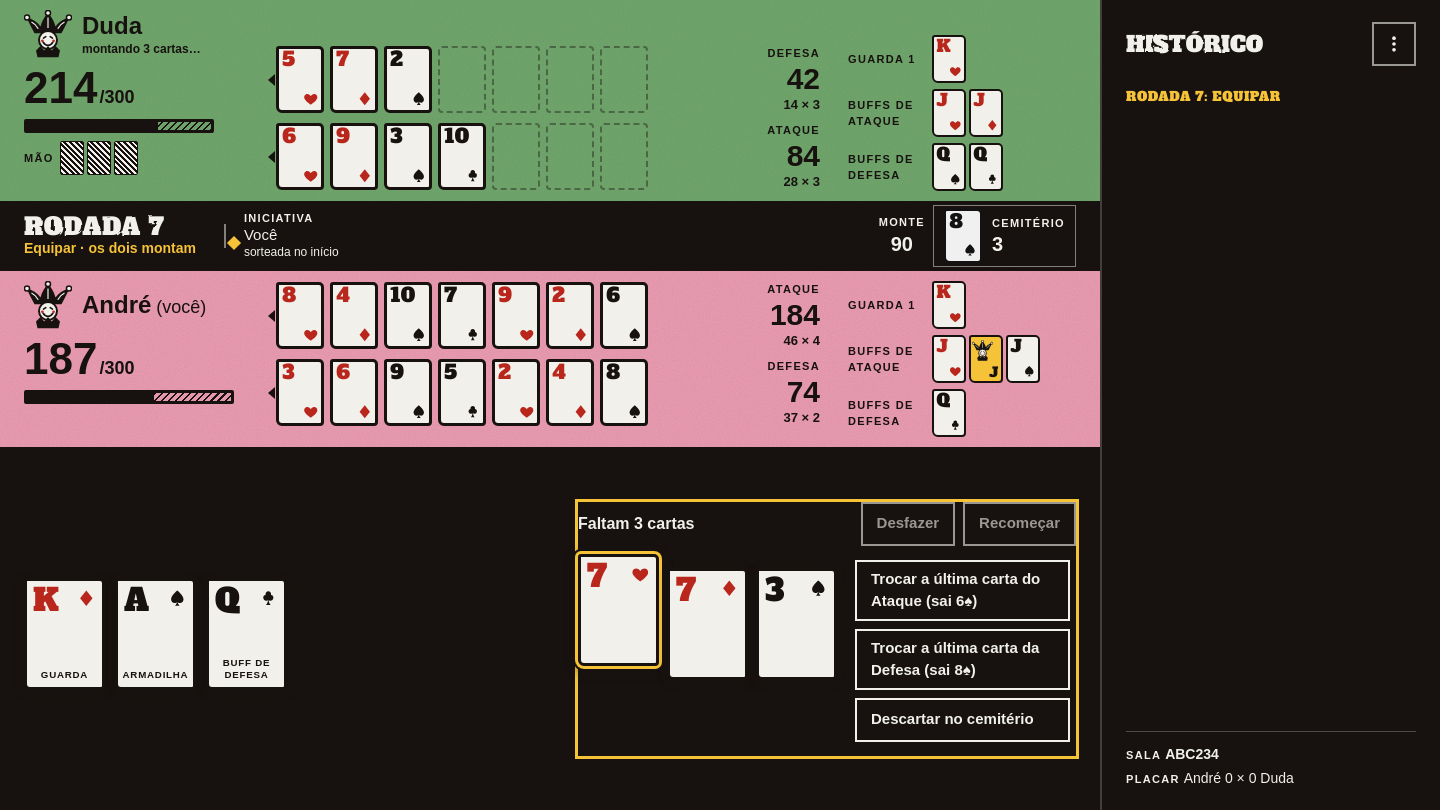
Test case: Equipar (spec §3.5; livre desde a E2 do sub-projeto 5) › depois de uma troca, o "sai" é a carta do rascunho, não a da mesa
Step 1. Click the button "Trocar a última carta do Ataque (sai 6♠)" → x=962, y=590, box [855,560,1070,620]
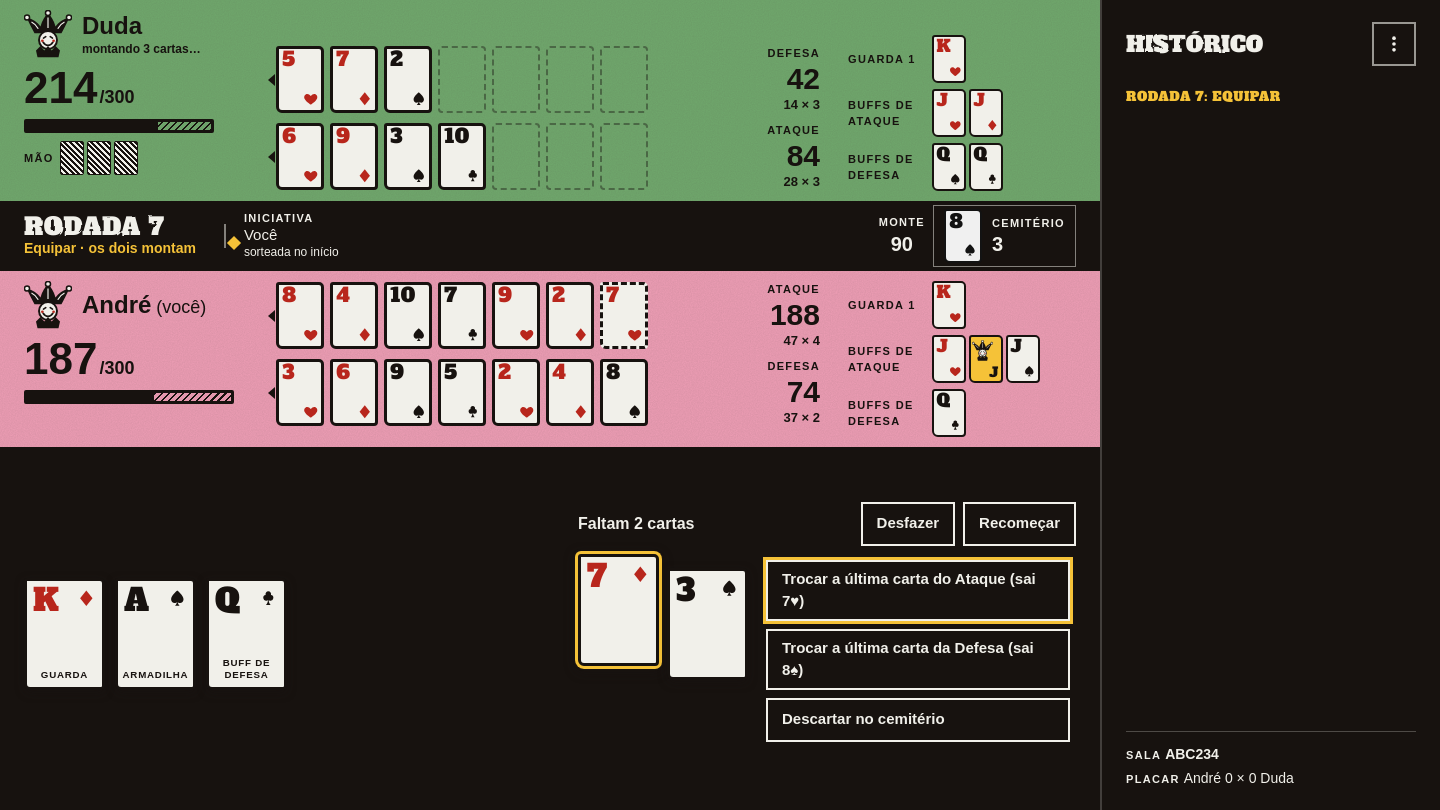
Check: the button "Trocar a última carta da Defesa (sai 8♠)" is shown, box [766,628,1070,690]
Check: the button "Trocar a última carta do Ataque (sai 7♥)" is shown, box [766,560,1070,620]
